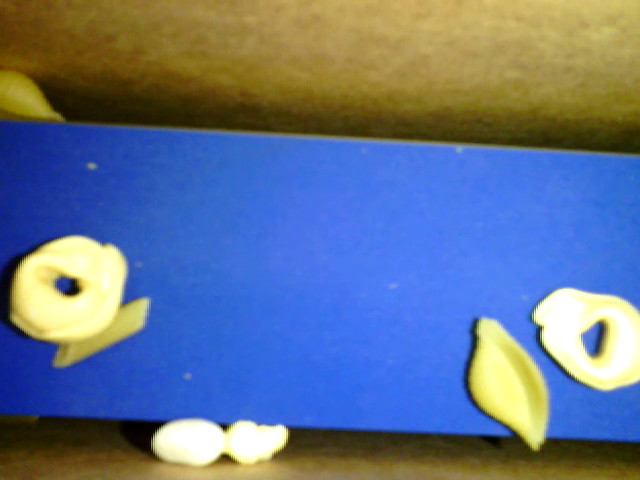penne: (53, 294, 152, 368)
shell: (464, 316, 551, 452), (1, 68, 66, 127)
tortellini: (9, 228, 127, 340), (529, 282, 639, 392)
